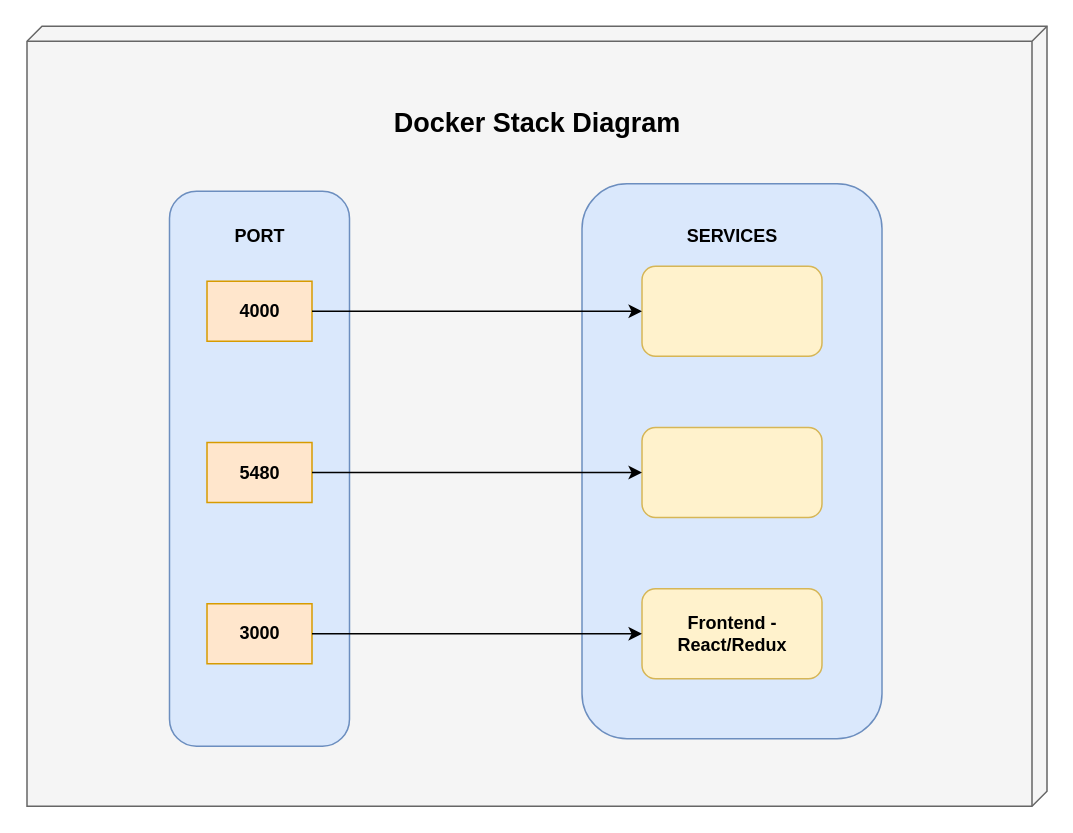
Some shapes in this 1073 by 833 pixel diagram are drawn without their labels. The box of each missing label's shape, as (x1, y1, x2, y2) in pixels:
API - Node.js/Express: (640, 265, 822, 356)
Database - PostgreSQL: (640, 426, 822, 518)
